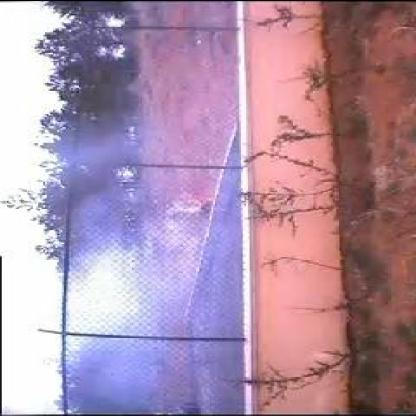-: (64, 164, 239, 370)
